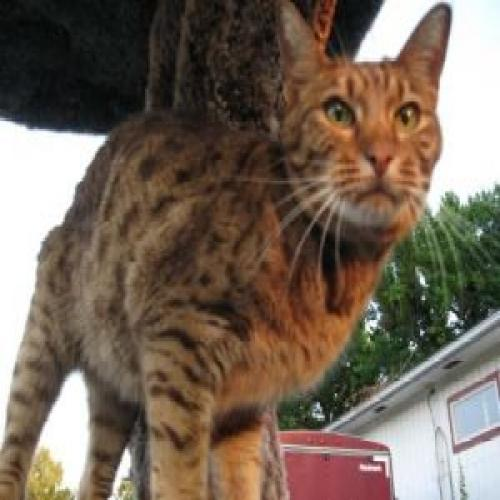bengal: (263, 1, 461, 241)
